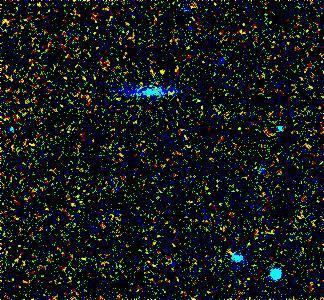star: (146, 58, 176, 88)
